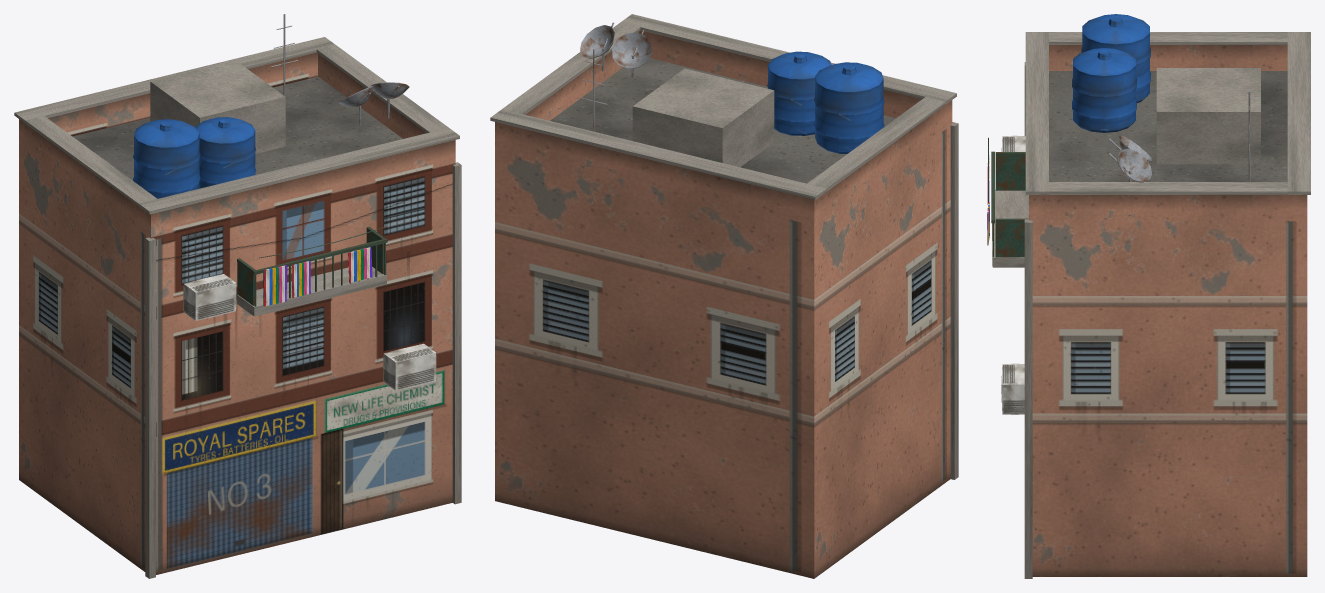
The model's file is env_building_c-Dgg7Rmk4.glb.
The picture shows the model from 3 angles, left to right: view 1: azimuth 30°, elevation 25°; view 2: azimuth 150°, elevation 25°; view 3: azimuth 270°, elevation 25°; orthographic projection. The views are drawn at different scales.
Parts seen in each view (by area): view 1: env_building_c_body; view 2: env_building_c_body; view 3: env_building_c_body.
Boxes of the visible parts, left/top/right/bottom form: env_building_c_body: left=14, top=14, right=461, bottom=578; env_building_c_body: left=490, top=14, right=958, bottom=578; env_building_c_body: left=987, top=14, right=1310, bottom=578.
Bounding box in the file's own units: 3.28 × 4.29 × 2.79.
1 material, 1 textured.
